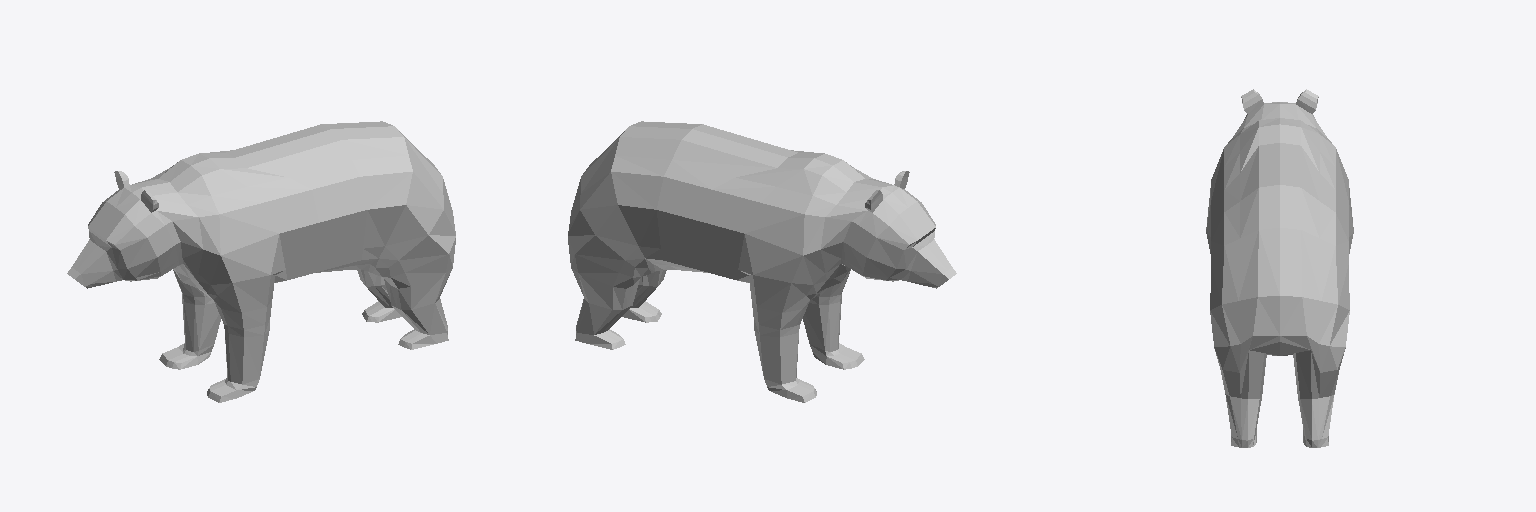
File: low poly bear v2.obj
The picture shows the model from 3 angles: view 1: azimuth 30°, elevation 25°; view 2: azimuth 150°, elevation 25°; view 3: azimuth 270°, elevation 25°; orthographic projection.
Visible parts, largest first — view 1: pCylinder2; view 2: pCylinder2; view 3: pCylinder2.
Part boxes in pixels (x1,y1,x2,y2): pCylinder2: (67, 121, 455, 402); pCylinder2: (568, 121, 956, 402); pCylinder2: (1206, 89, 1353, 447).
Bounding box in the file's own units: 5.88 × 3.3 × 2.03.